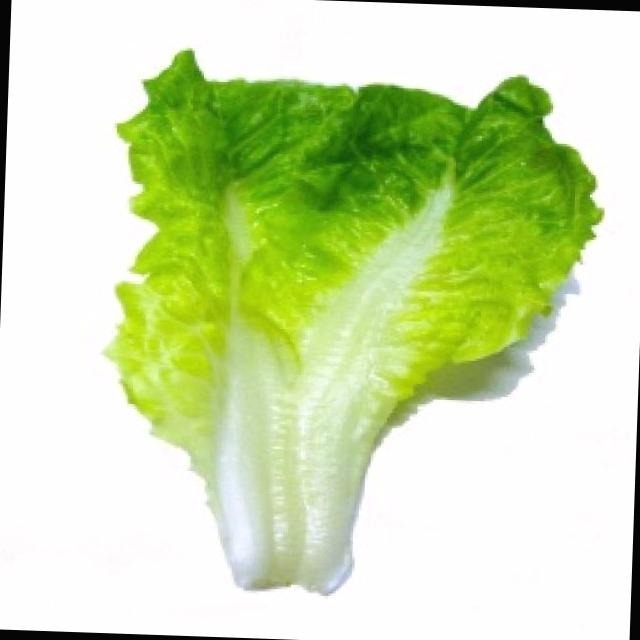Lettuce-Ready-to-Harvest: (110, 50, 600, 591)
